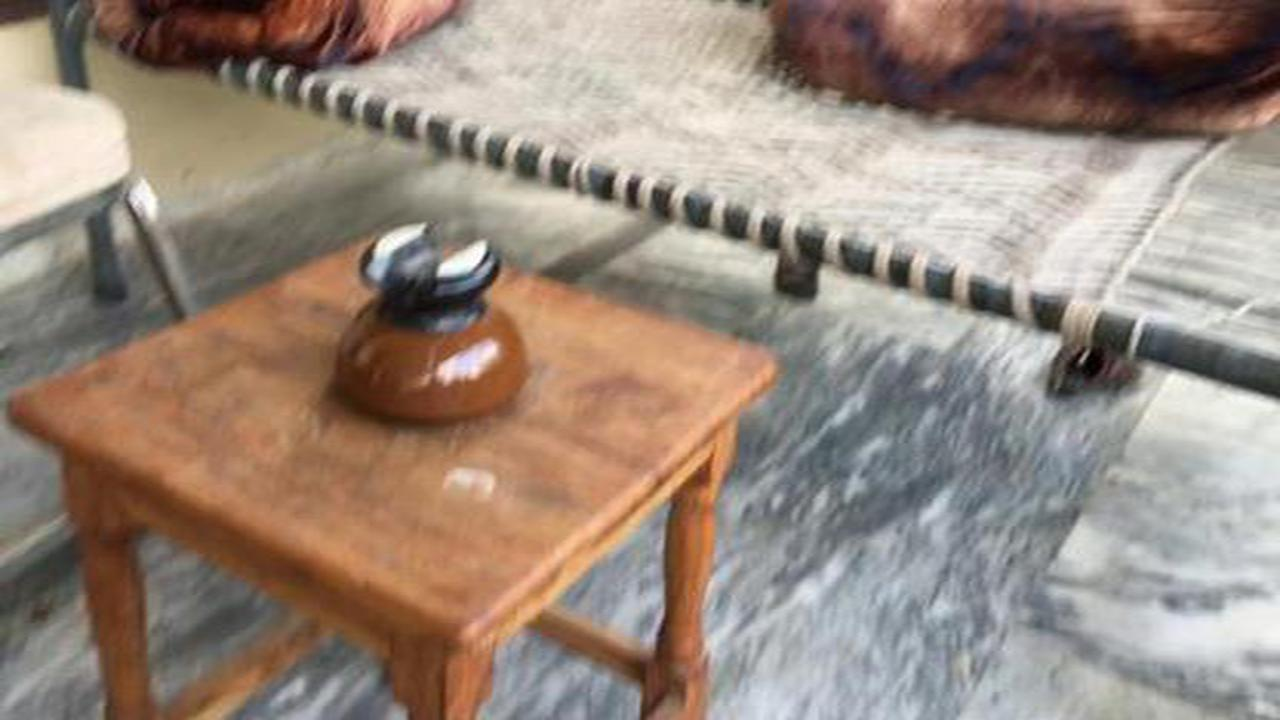insulator_pin: (317, 209, 548, 430)
